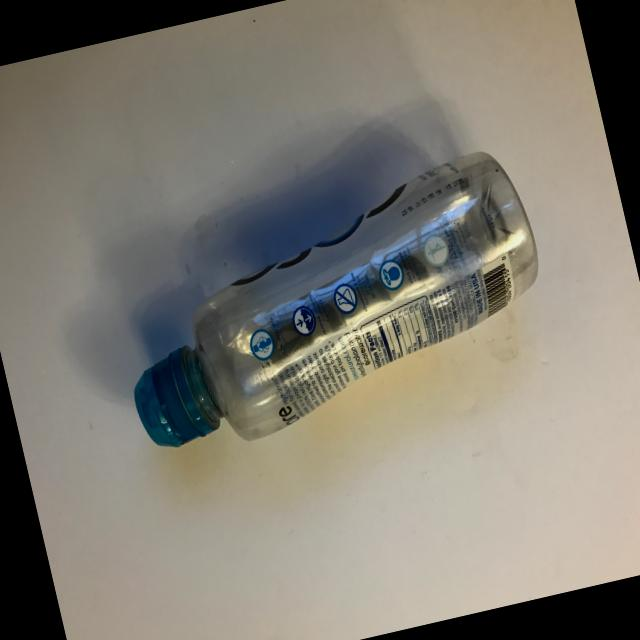Plastic: (68, 106, 598, 526)
